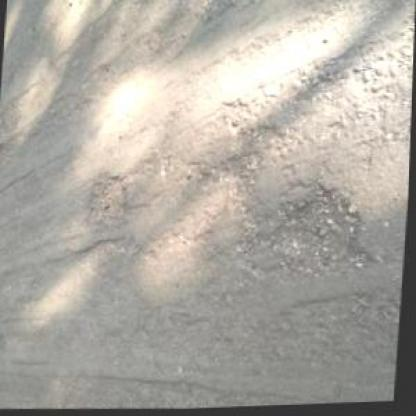pothole: (275, 181, 377, 286), (85, 171, 132, 228), (0, 332, 10, 356)
